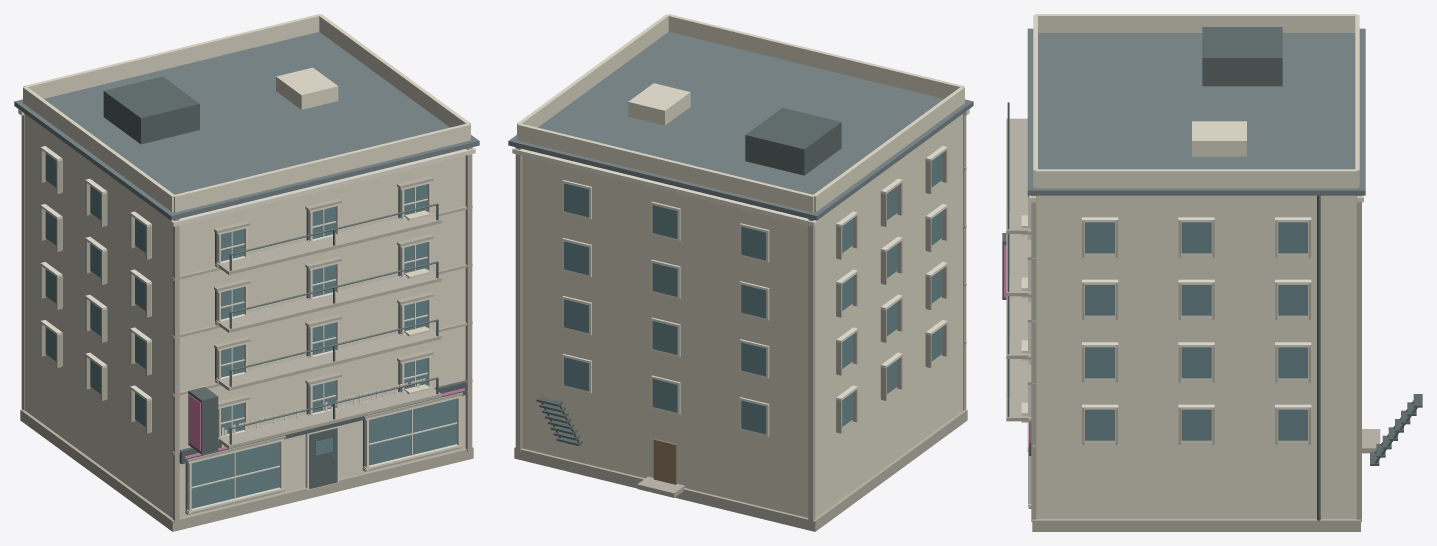
3 views of the same model, side by side, from view 1: azimuth 30°, elevation 25°; view 2: azimuth 150°, elevation 25°; view 3: azimuth 270°, elevation 25° (orthographic). The views are drawn at different scales.
Bounding box in the file's own units: 16.7 × 17.83 × 18.3.
